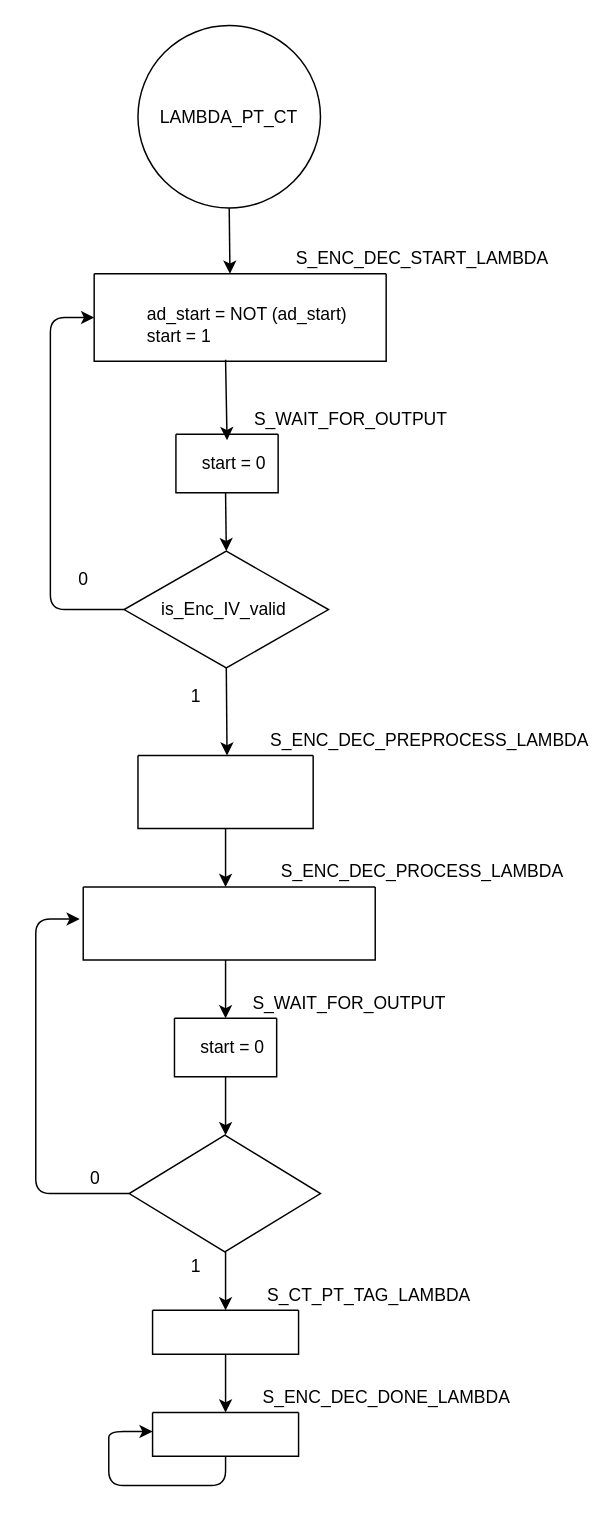
The diagram is 616 pixels wide and 1523 high, and some of its shapes have lost their labels. The shapes that lost their labels are listed below. From the top down, each one's centre as x and y in pixels, then its label:
At (x=225, y=791): "pt_ct_start = 1 ad_start = 0".
At (x=228, y=922): "pt_ct_start = NOT (pt_ct_start) start = 1".
At (x=224, y=1193): "is_CT_PT_valid".
